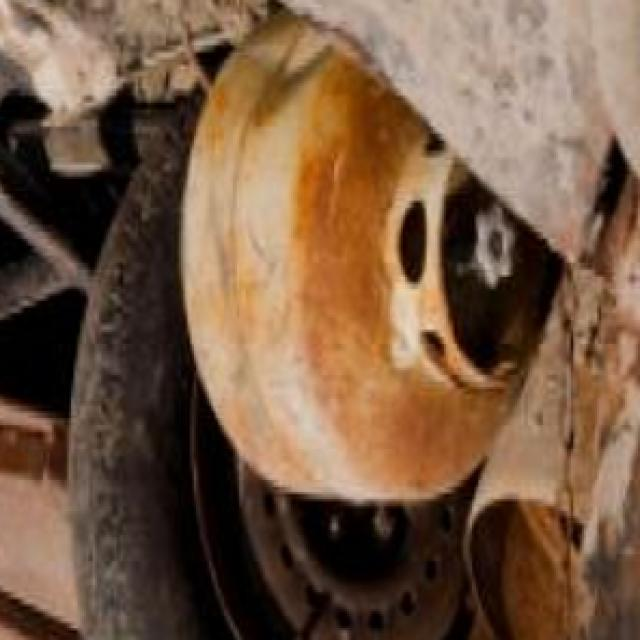cylinder: (179, 8, 568, 490)
